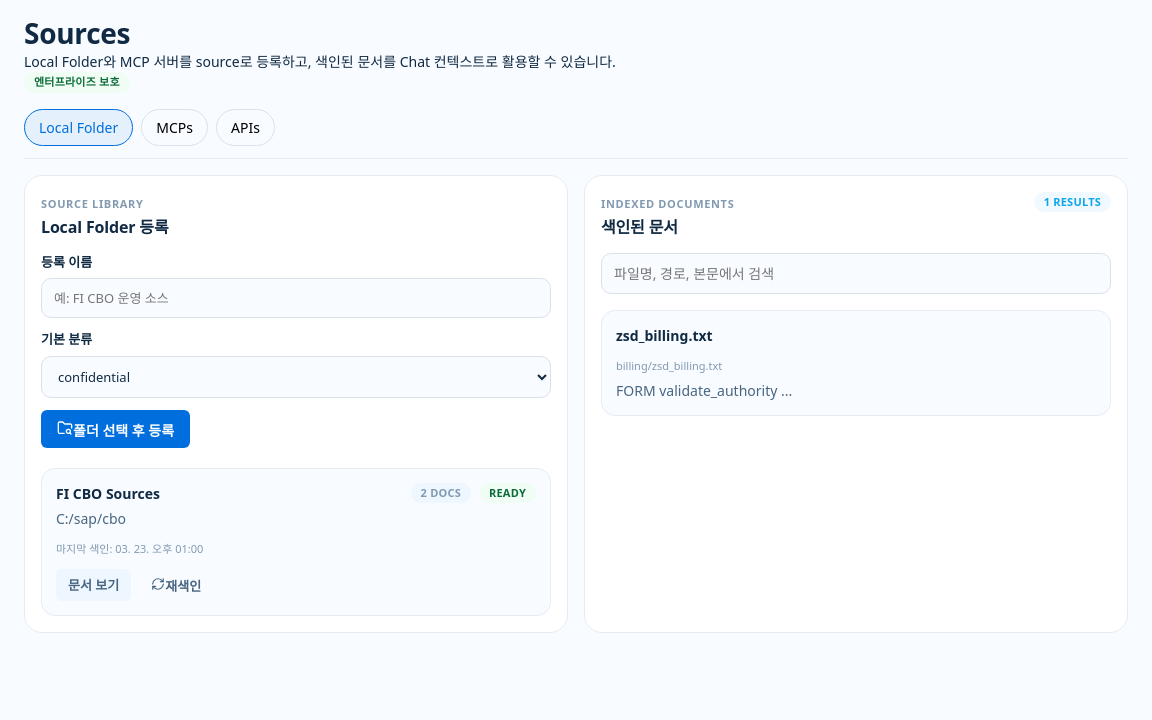
Scenario: SourcesPage › APIs 탭으로 전환하면 future-ready 안내를 표시한다
Click the tab "APIs" at (245, 127), box [216,108,275,146]
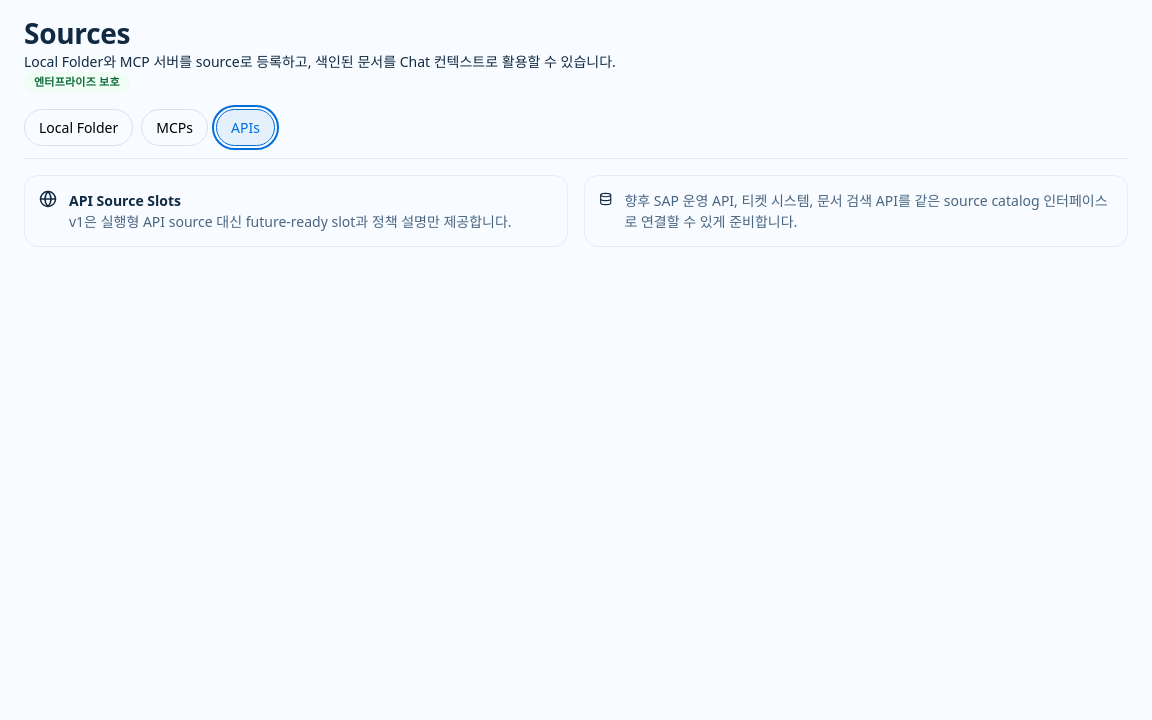
Result: the text "API Source Slots" is shown at [69,190,181,210]
